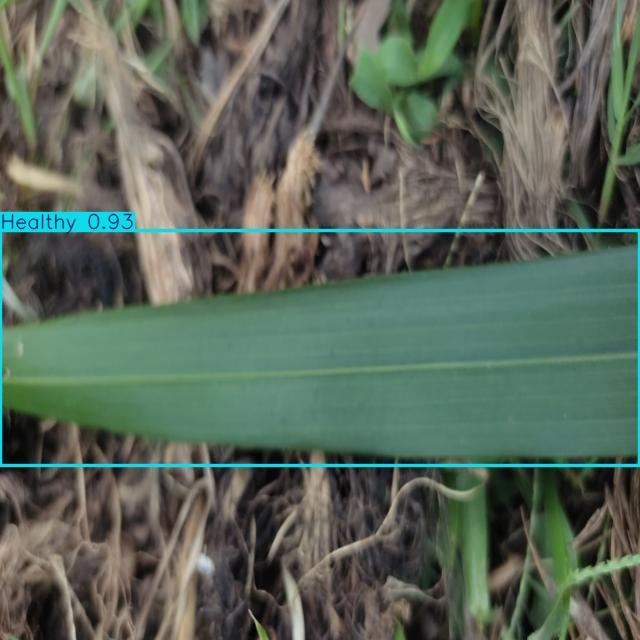Healthy: (0, 230, 640, 466)
